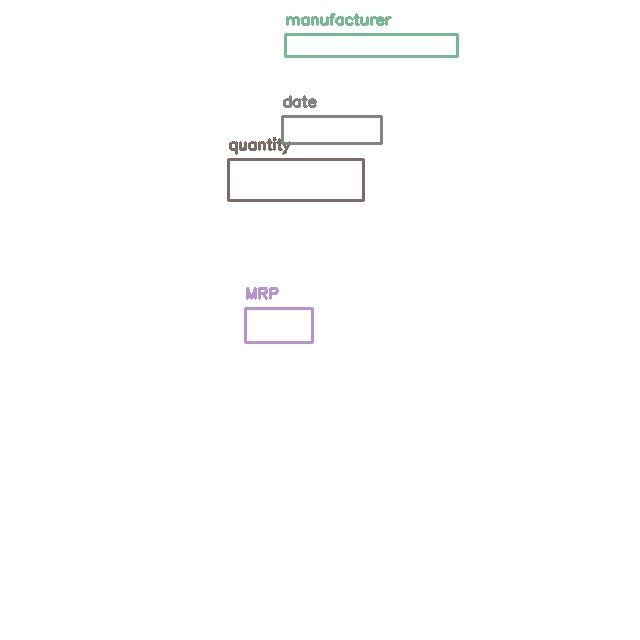MRP: (245, 308, 312, 342)
date: (282, 116, 381, 143)
manufacturer: (285, 34, 457, 56)
quantity: (228, 159, 363, 200)
